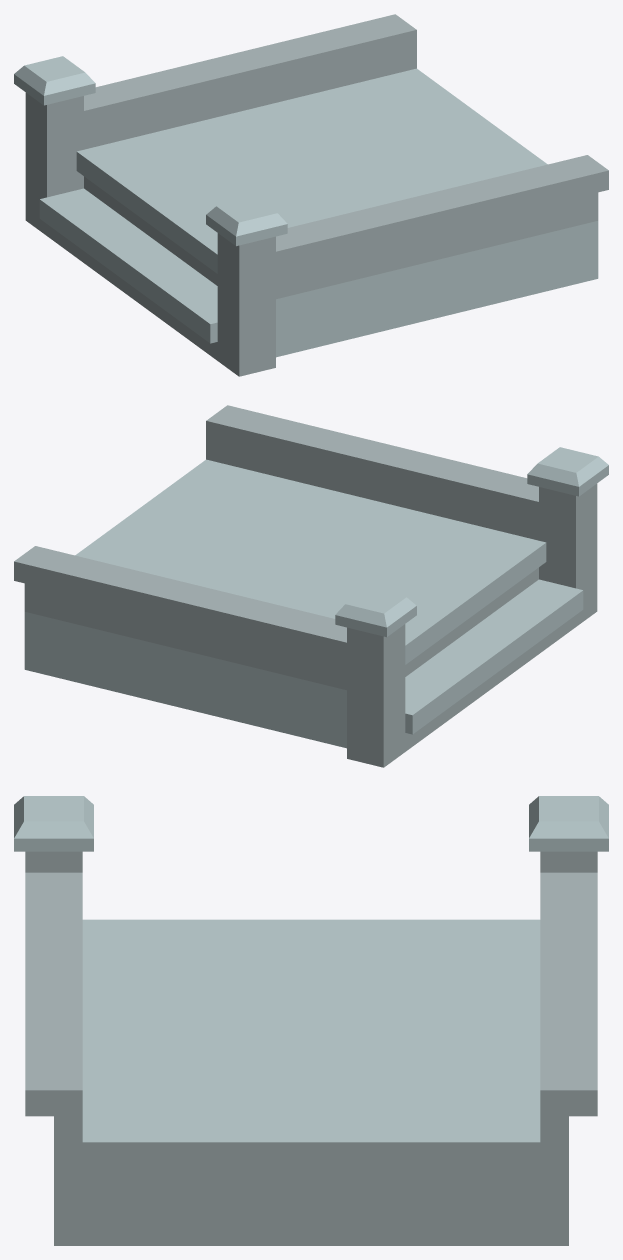
Rendered from bridge_side_stone.glb.
3 renders of one model, top to bottom at view 1: azimuth 30°, elevation 25°; view 2: azimuth 150°, elevation 25°; view 3: azimuth 270°, elevation 25°, orthographic. The views are drawn at different scales.
Parts seen in each view (by area): view 1: bridge_side_stone; view 2: bridge_side_stone; view 3: bridge_side_stone.
Part boxes in pixels (x1,y1,x2,y2): bridge_side_stone: (14,14,608,376); bridge_side_stone: (14,405,608,767); bridge_side_stone: (14,796,608,1245).
Bounding box in the file's own units: 1.02 × 0.4 × 1.04.
